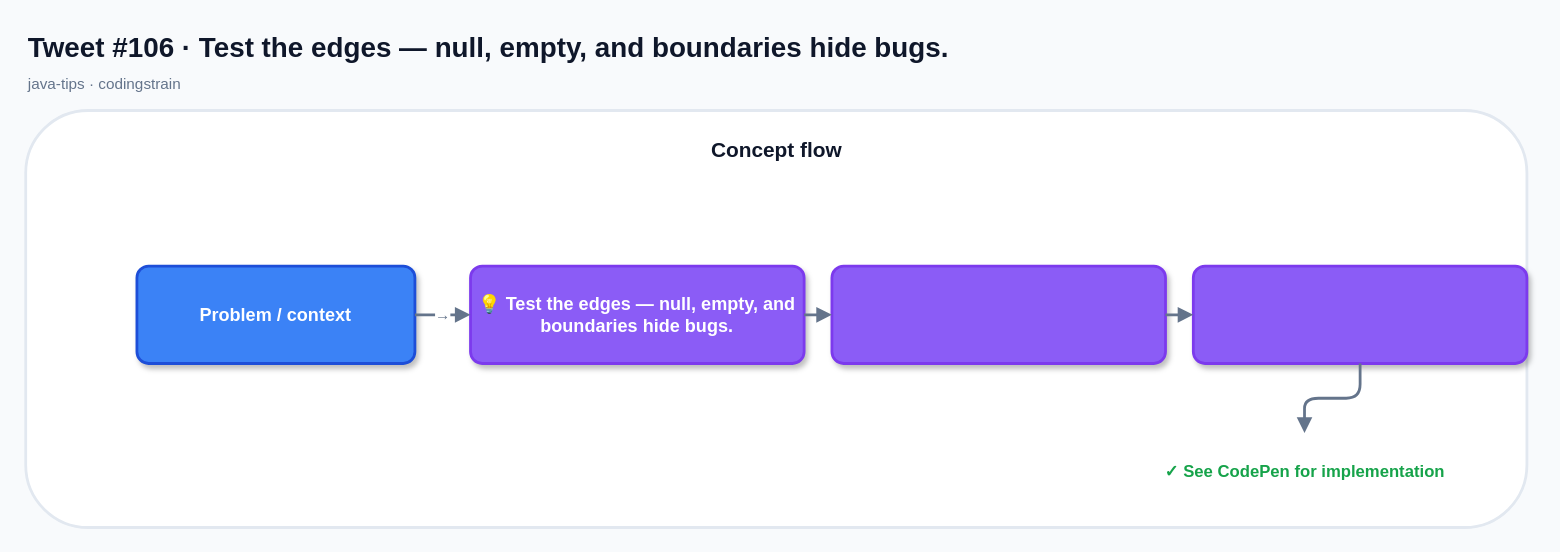
Image size: 1560x552. Some labels were removed from this diagram. Here are the shapes that lost their labels. From the top down, the centre of each, then its label:
At point (999, 316): "Happy-path alone misses null NullPointerExceptions".
At point (1361, 316): "Empty / one-element lists break differently than normal data".
